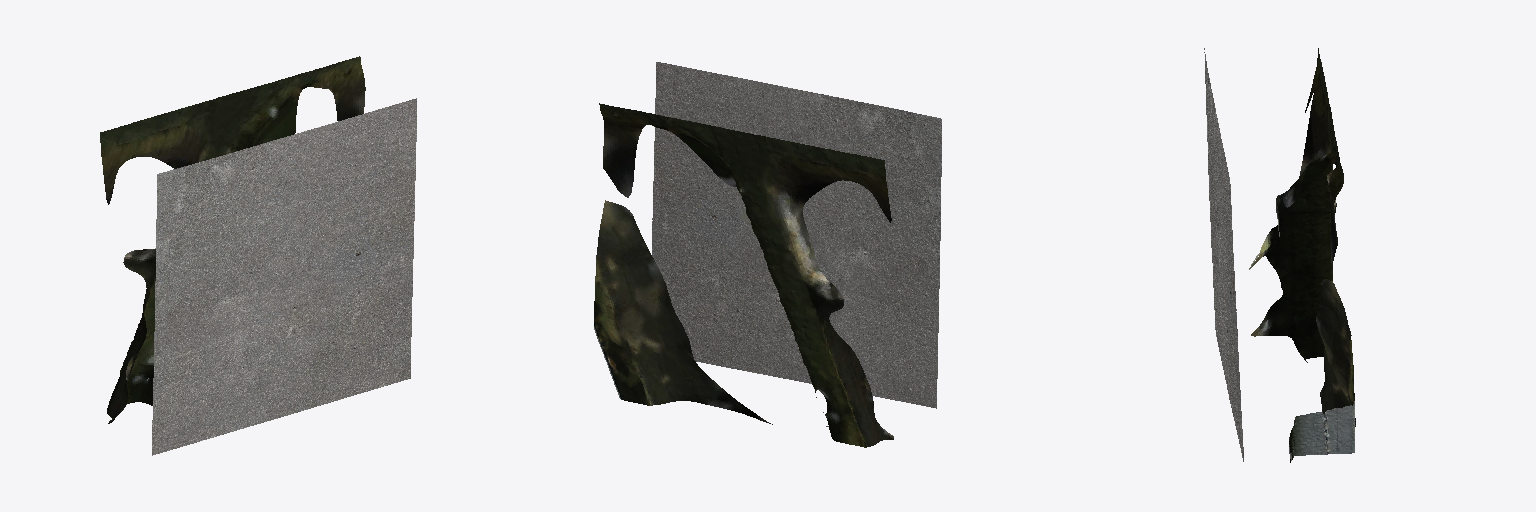
3 renders of one model, left to right at view 1: azimuth 30°, elevation 25°; view 2: azimuth 150°, elevation 25°; view 3: azimuth 270°, elevation 25°, orthographic.
Size of the model in its own units: 3.03 by 3.03 by 1.45.
Materials: 2 (1 with a texture image).